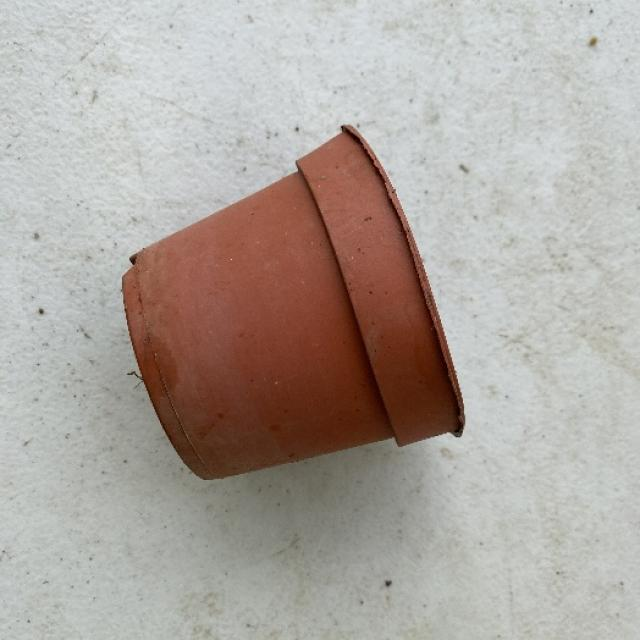inorganic: (120, 122, 468, 486)
